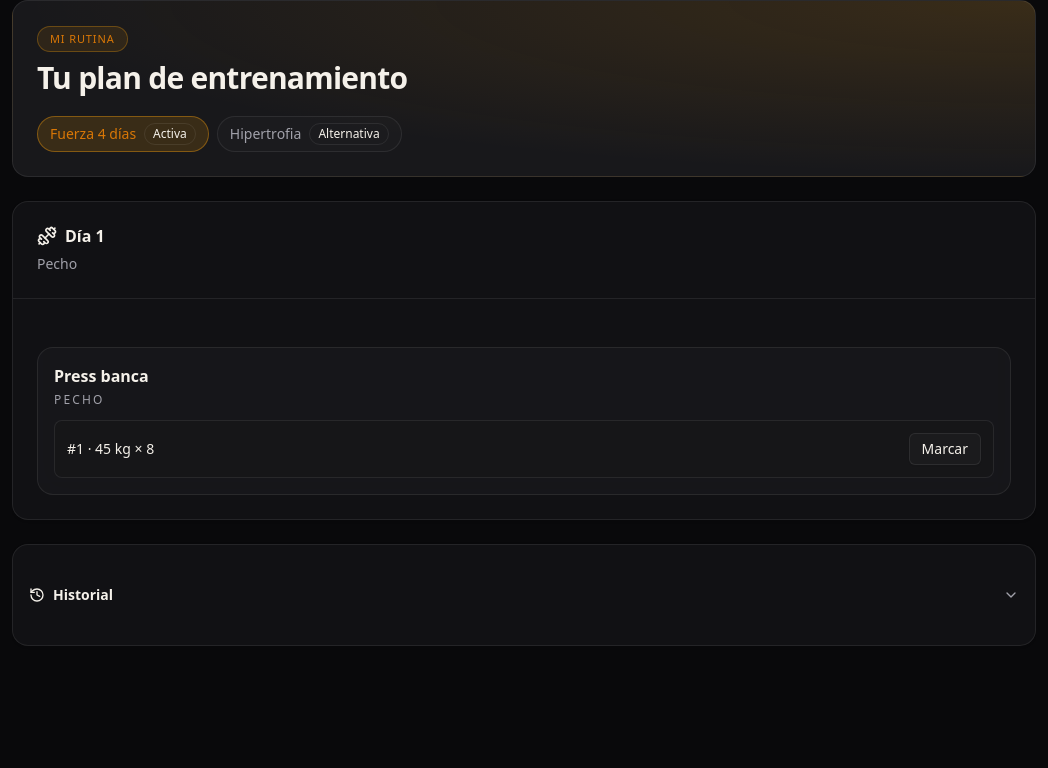
Scenario: vista Mi rutina › permite elegir entre las copias asignadas
Expected: the text "Press banca" is shown, [54,365,149,387]
Step 1. Click the button "Hipertrofia Alternativa" → x=309, y=134, box [217,116,402,152]
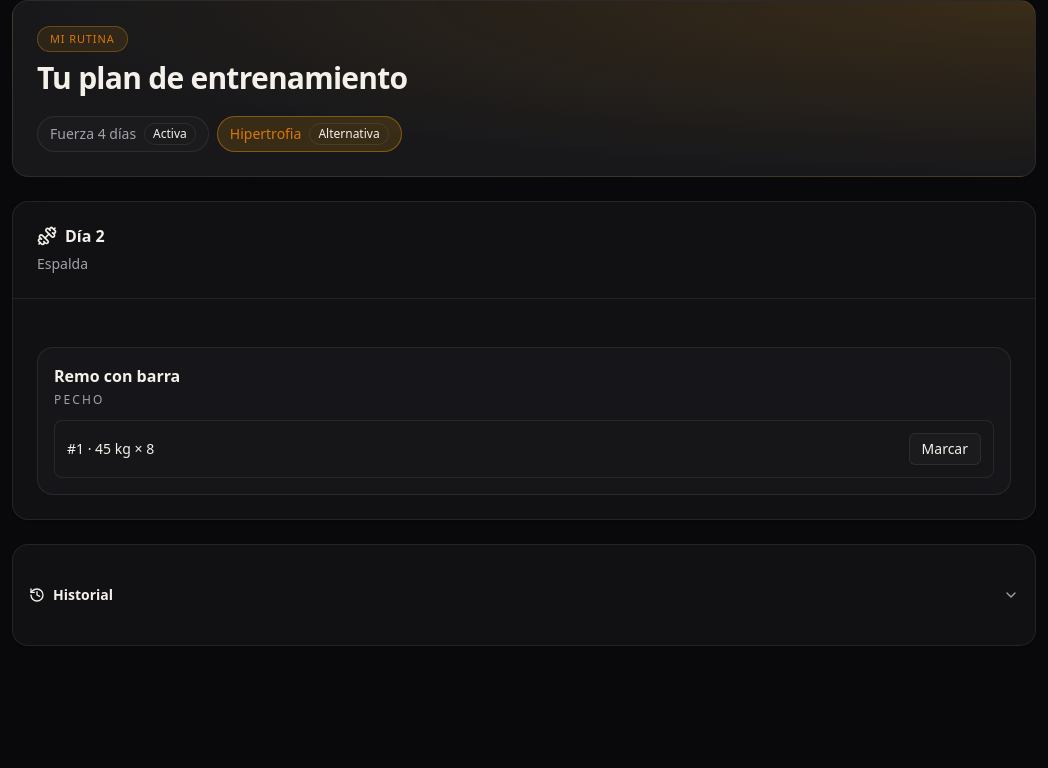
Result: the text "Remo con barra" is shown at [54,365,180,387]
Result: the text "Press banca" is gone
